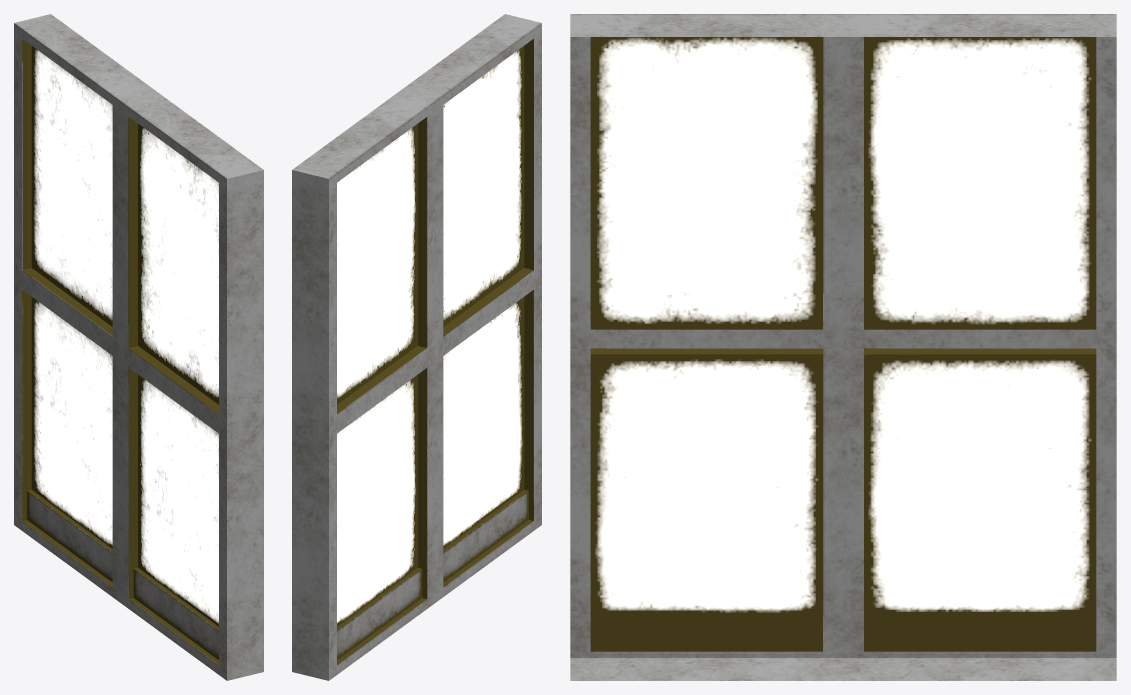
File: window.glb
The picture shows the model from 3 angles, left to right: view 1: azimuth 30°, elevation 25°; view 2: azimuth 150°, elevation 25°; view 3: azimuth 270°, elevation 25°; orthographic projection. The views are drawn at different scales.
Visible parts, largest first — view 1: Window; view 2: Window; view 3: Window.
Part boxes in pixels (left/top/right/bottom): Window: left=14, top=14, right=263, bottom=680; Window: left=292, top=14, right=541, bottom=680; Window: left=570, top=14, right=1116, bottom=680.
Bounding box in the file's own units: 0.14 × 1.82 × 1.4.
Materials: 1 (1 with a texture image).
